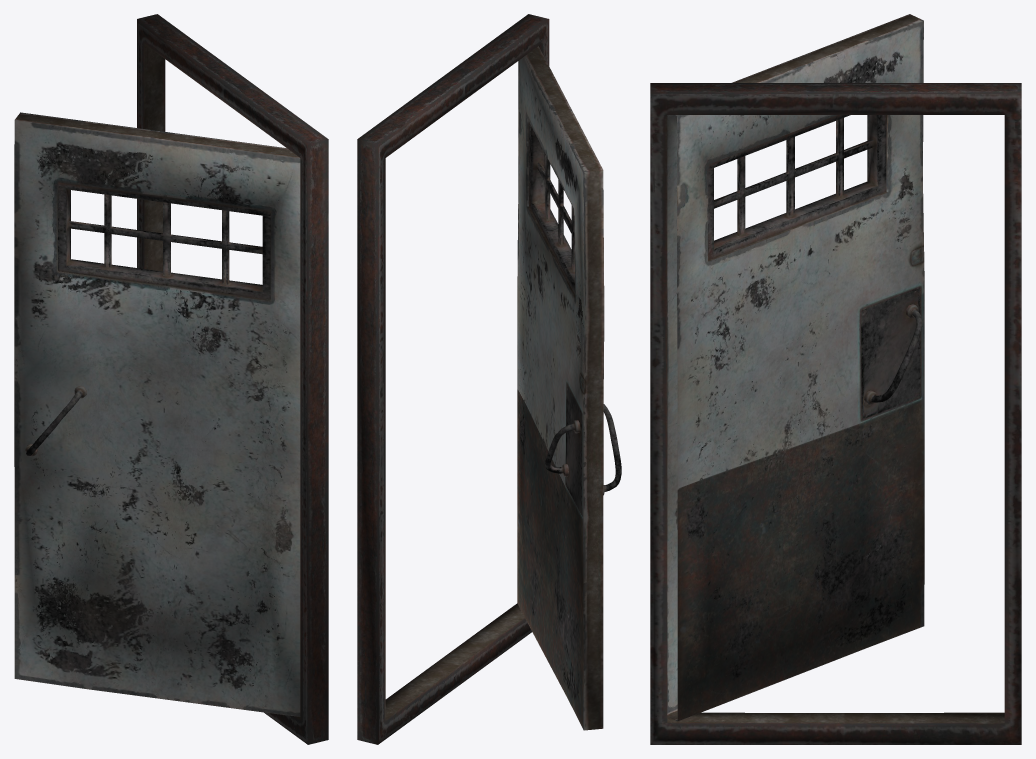
File: Door4.glb
3 views of the same model, side by side, from view 1: azimuth 30°, elevation 25°; view 2: azimuth 150°, elevation 25°; view 3: azimuth 270°, elevation 25° (orthographic). The views are drawn at different scales.
Parts seen in each view (by area): view 1: Object_3, Object_3.001; view 2: Object_3, Object_3.001; view 3: Object_3, Object_3.001.
Boxes of the visible parts, x1,y1,x2,y2 form: Object_3: (14, 112, 300, 716); Object_3.001: (137, 14, 328, 744); Object_3: (517, 46, 621, 730); Object_3.001: (357, 14, 549, 744); Object_3: (667, 14, 924, 721); Object_3.001: (650, 83, 1021, 744).
Size of the model in its own units: 1.35 by 3.94 by 2.04.
1 material, 1 textured.
